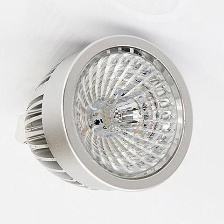light_bulb: (12, 29, 196, 196)
